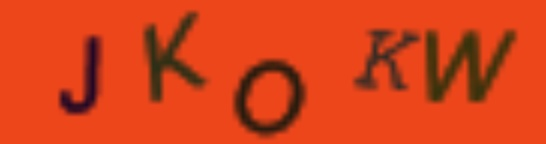J: (55, 31, 103, 117)
K: (141, 6, 209, 109), (351, 23, 423, 94)
O: (230, 54, 310, 140)
W: (423, 24, 524, 106)
